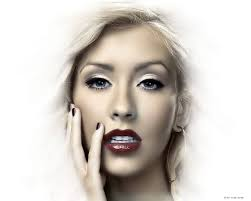white_female: (61, 41, 189, 172)
